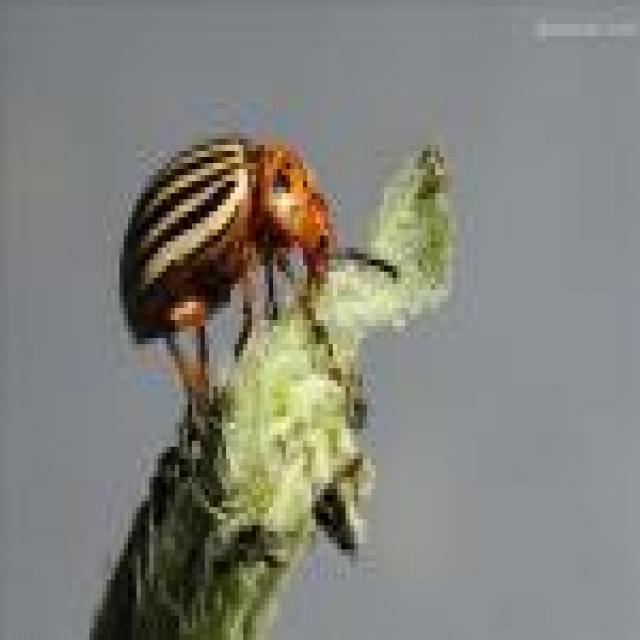ShuCaiHuaBanChong-Grown-: (121, 122, 368, 364)
